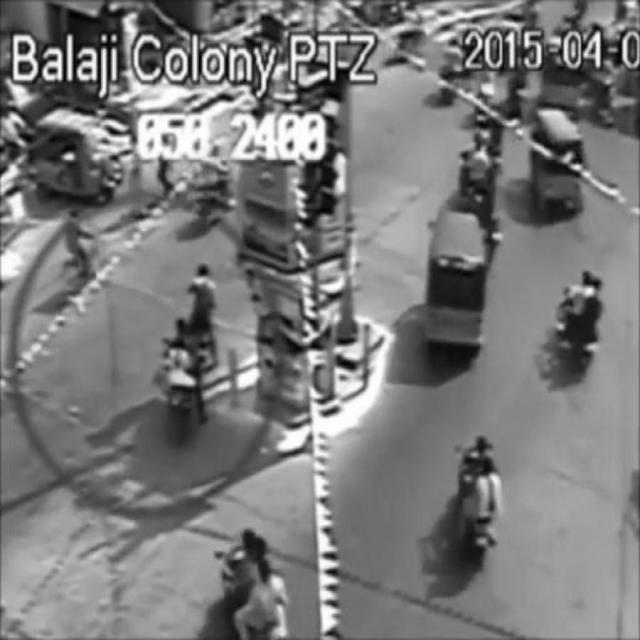accident: (154, 264, 227, 441)
vehicle: (429, 205, 485, 356), (40, 106, 121, 204), (452, 430, 502, 562), (48, 211, 115, 302), (527, 116, 581, 214), (555, 275, 599, 373), (461, 134, 496, 227)
